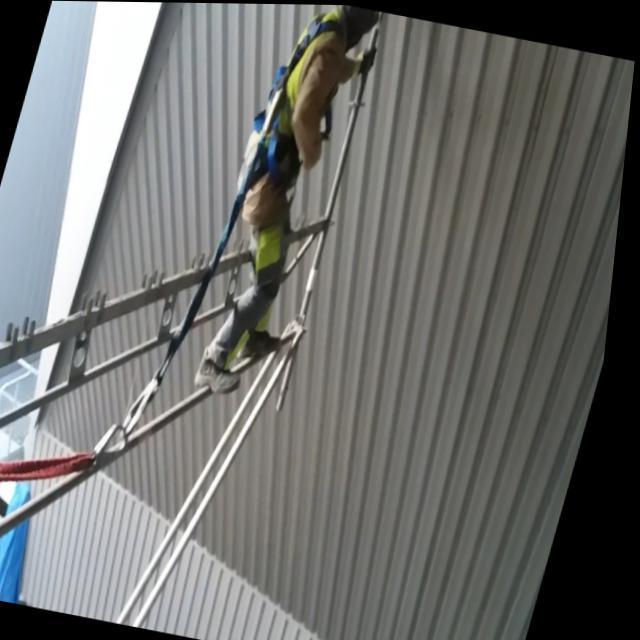belt: (215, 2, 374, 236)
